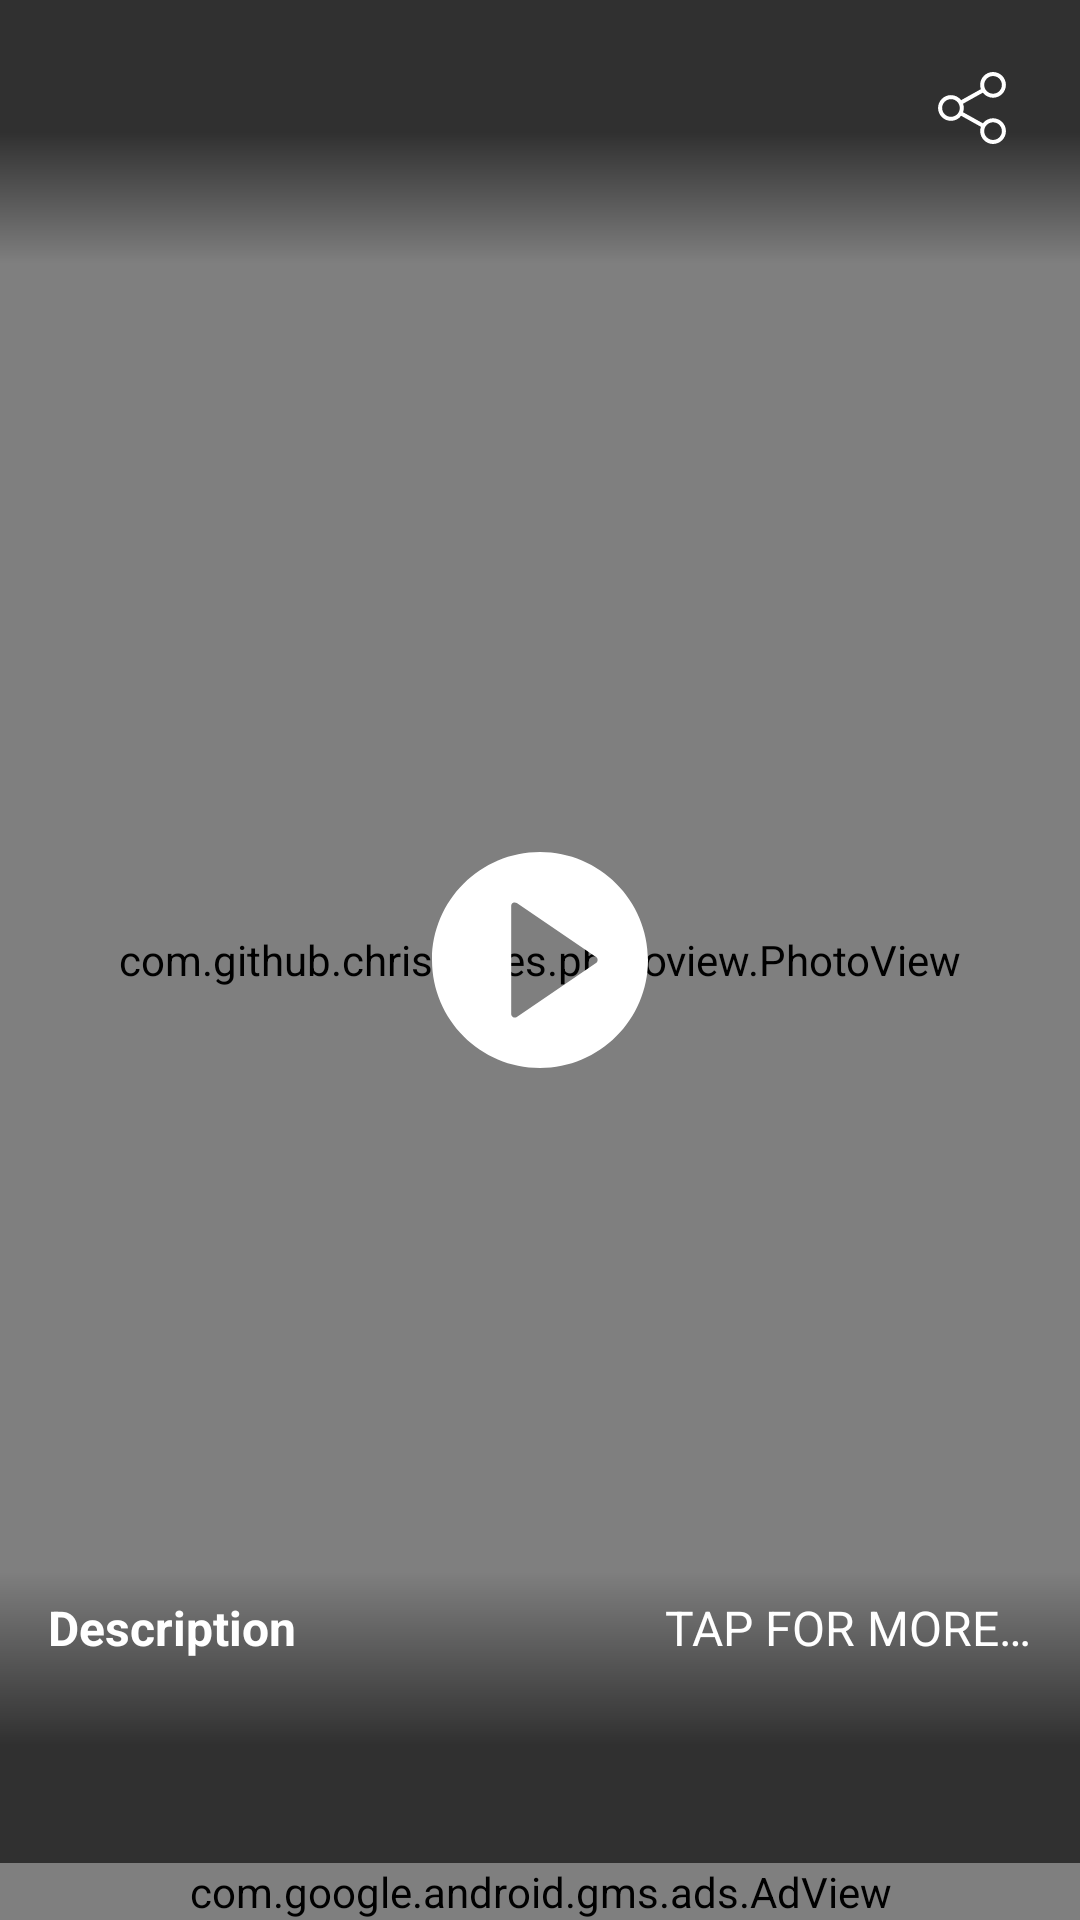

Point at icon controls on the screen. Image size 1080*1920, points as point (x, y).
play: point (540, 960)
share: point (972, 108)
